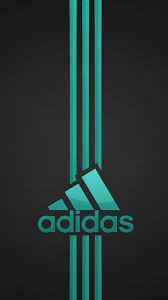adidas: (37, 162, 134, 233)
